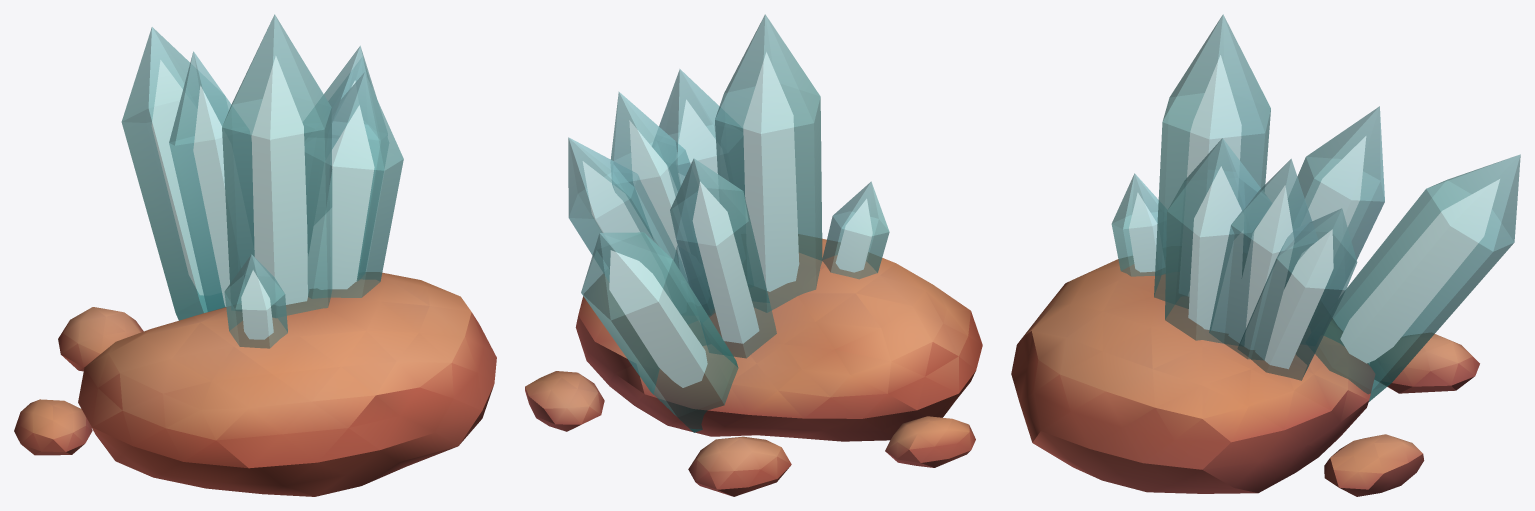
The model's file is amber_crystal_cluster_a.glb.
3 renders of one model, left to right at view 1: azimuth 30°, elevation 25°; view 2: azimuth 150°, elevation 25°; view 3: azimuth 270°, elevation 25°, orthographic. The views are drawn at different scales.
Visible parts, largest first — view 1: amber_crystal_cluster_a; view 2: amber_crystal_cluster_a; view 3: amber_crystal_cluster_a.
Part boxes in pixels (x1,y1,x2,y2): amber_crystal_cluster_a: [14, 14, 496, 496]; amber_crystal_cluster_a: [525, 14, 982, 496]; amber_crystal_cluster_a: [1011, 14, 1520, 496].
Bounding box in the file's own units: 2.27 × 2.03 × 2.32.
